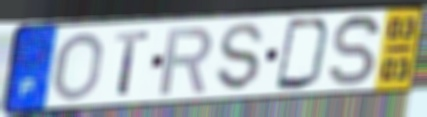D: (272, 17, 334, 92)
O: (50, 30, 106, 104)
R: (156, 25, 216, 98)
S: (327, 13, 382, 89), (215, 21, 266, 94)
T: (113, 29, 152, 98)
